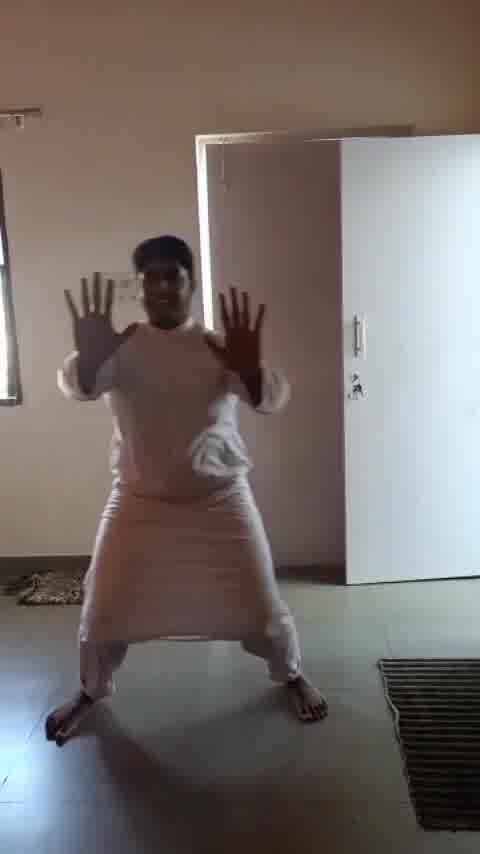duck: (57, 225, 350, 758)
